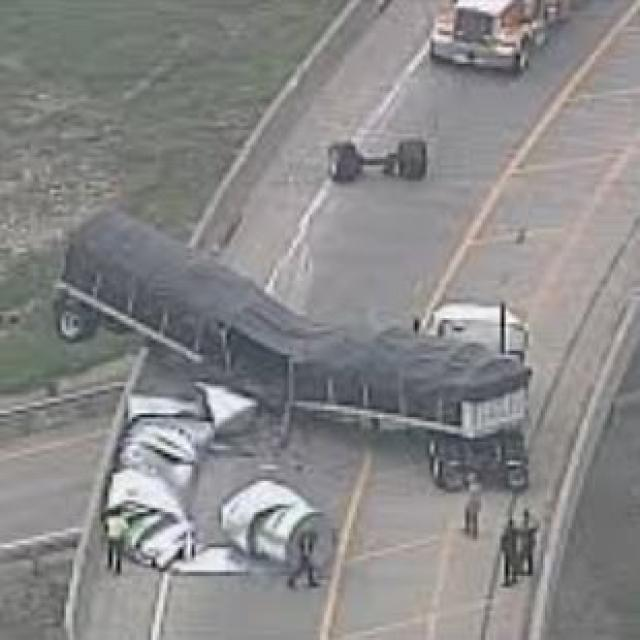traffic_incident: (72, 208, 543, 479)
